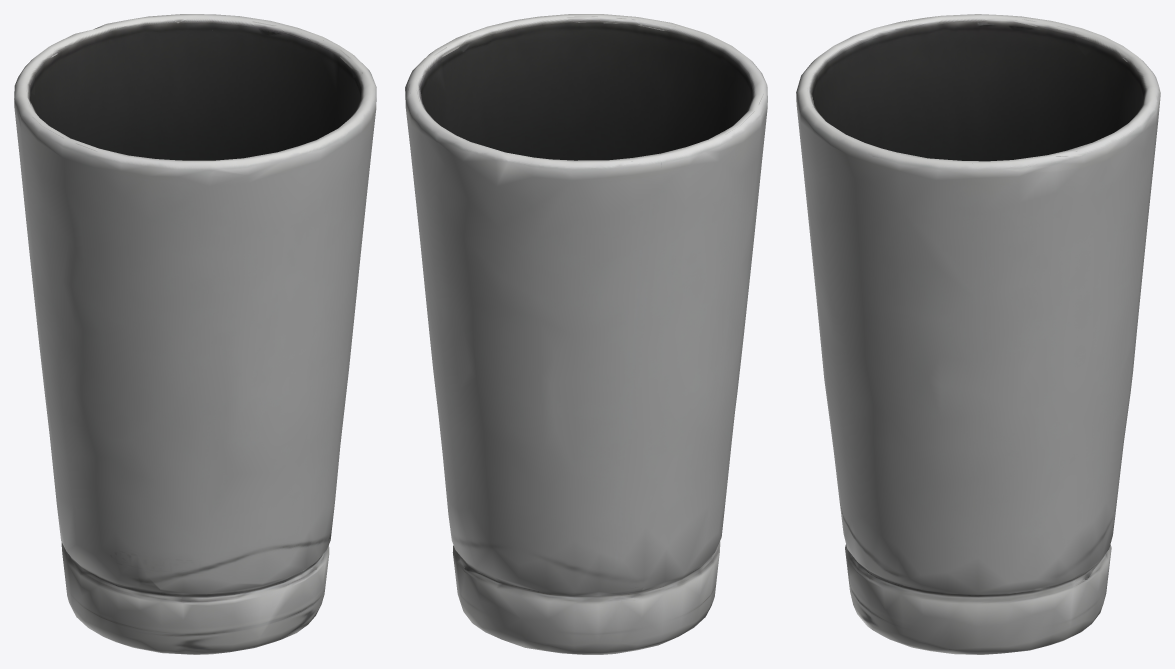
File: bardaak.fbx
3 renders of one model, left to right at view 1: azimuth 30°, elevation 25°; view 2: azimuth 150°, elevation 25°; view 3: azimuth 270°, elevation 25°, orthographic.
Parts seen in each view (by area): view 1: Mesh_0; view 2: Mesh_0; view 3: Mesh_0.
Boxes of the visible parts, bbox=[...] form: Mesh_0: bbox=[14, 14, 376, 654]; Mesh_0: bbox=[405, 14, 767, 654]; Mesh_0: bbox=[796, 14, 1160, 654].
Size of the model in its own units: 123 by 191 by 123.
1 material, 1 textured.
